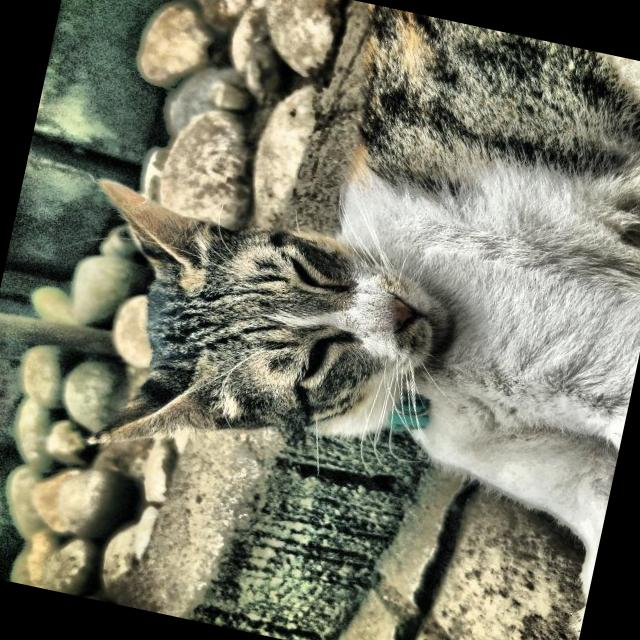Healthy skin: (390, 44, 570, 208), (451, 248, 626, 414), (162, 263, 286, 381), (314, 287, 428, 377)
